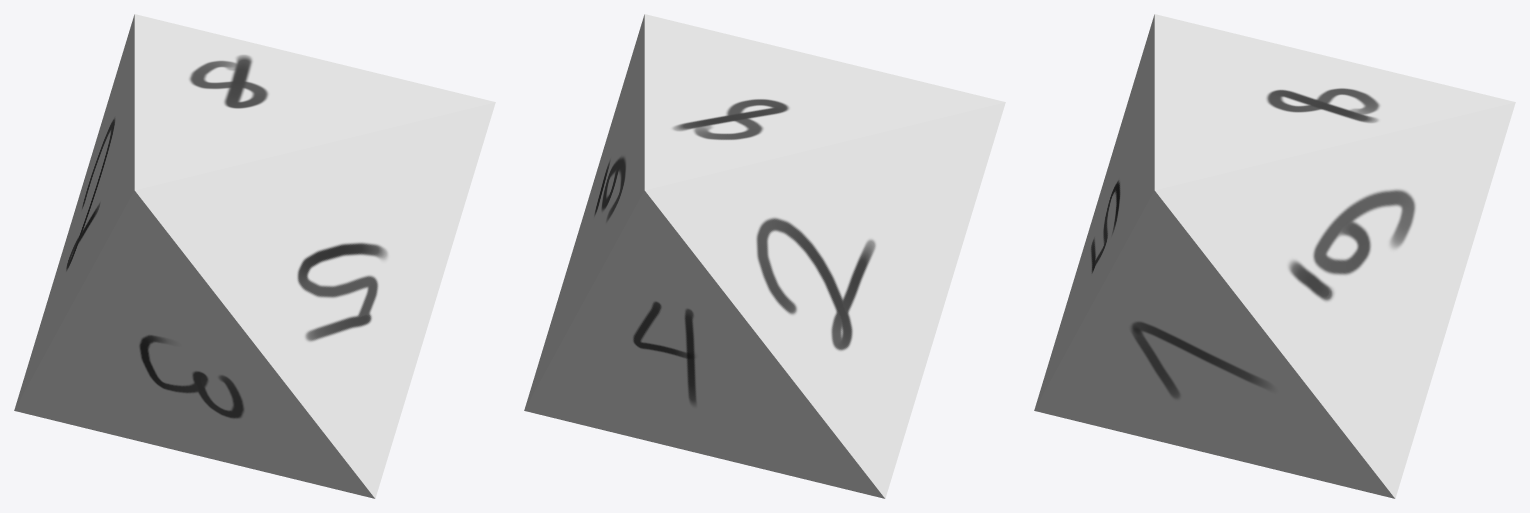
3 views of the same model, side by side, from view 1: azimuth 30°, elevation 25°; view 2: azimuth 150°, elevation 25°; view 3: azimuth 270°, elevation 25° (orthographic).
Parts seen in each view (by area): view 1: d8; view 2: d8; view 3: d8.
Boxes of the visible parts, x1,y1,x2,y2 form: d8: (14,14,495,498); d8: (524,14,1005,498); d8: (1034,14,1515,498).
Bounding box in the file's own units: 2.45 × 2 × 2.83.
1 material, 1 textured.
